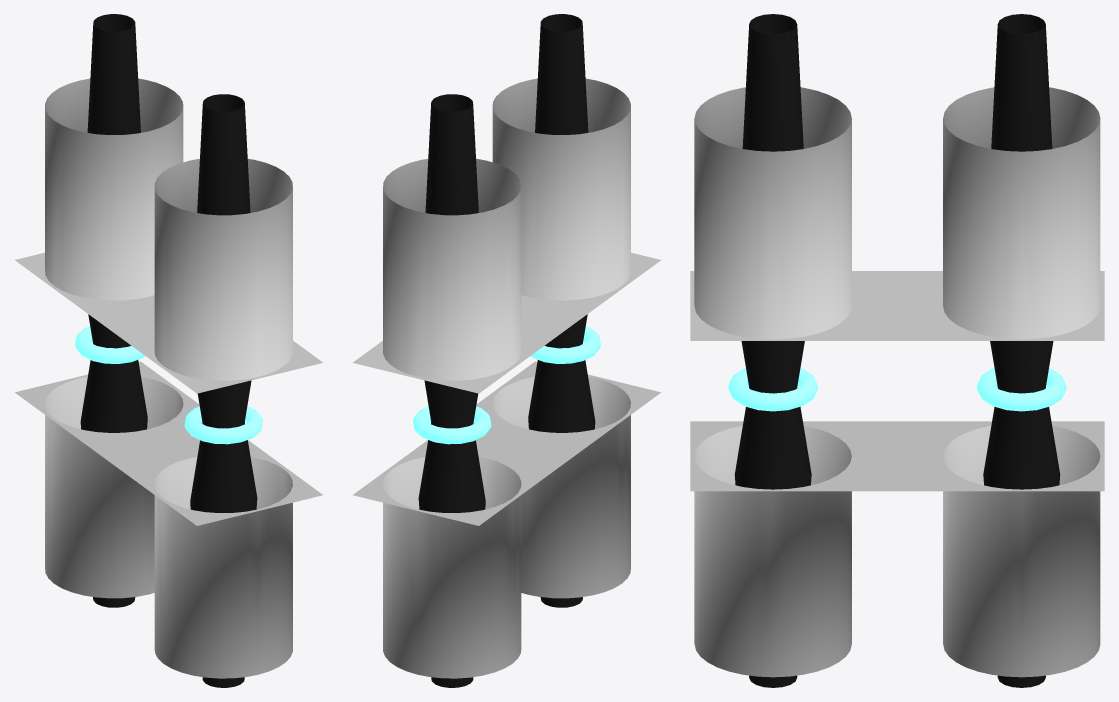
Rendered from BigDeco.fbx.
3 views of the same model, side by side, from view 1: azimuth 30°, elevation 25°; view 2: azimuth 150°, elevation 25°; view 3: azimuth 270°, elevation 25° (orthographic). The views are drawn at different scales.
Visible parts, largest first — view 1: BigDeco; view 2: BigDeco; view 3: BigDeco.
Boxes of the visible parts, x1=… form: BigDeco: x1=15, y1=14, x2=323, y2=687; BigDeco: x1=352, y1=14, x2=660, y2=687; BigDeco: x1=690, y1=14, x2=1104, y2=687.
Bounding box in the file's own units: 400 × 1741 × 1000.
